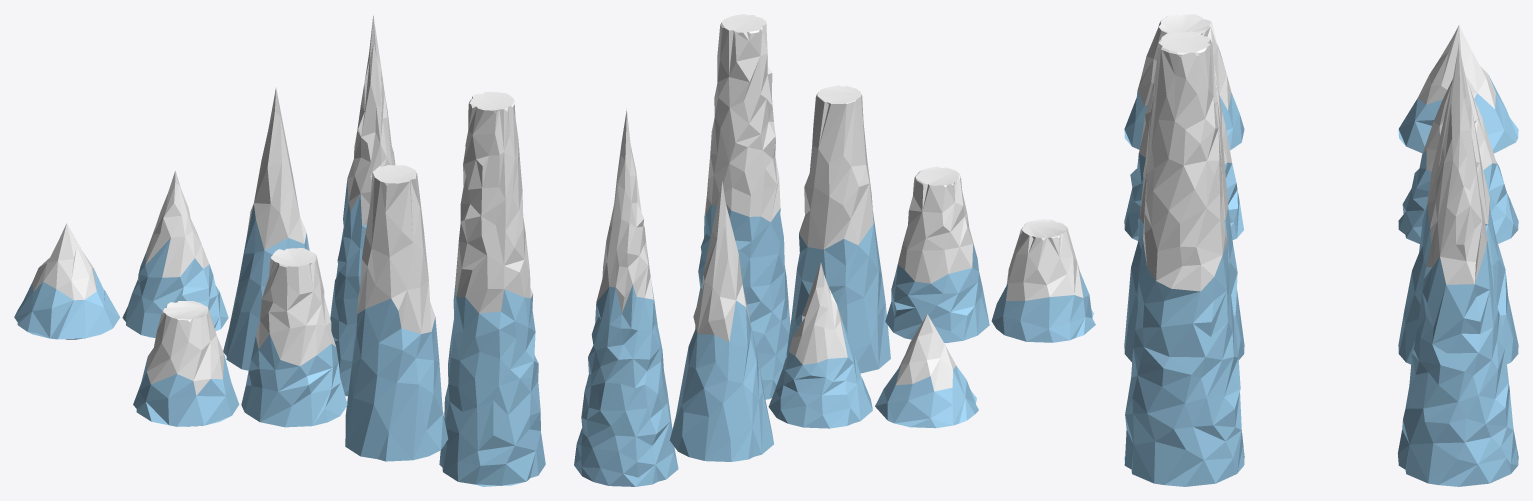
Rendered from Low-Poly Ice World 2.fbx.
3 renders of one model, left to right at view 1: azimuth 30°, elevation 25°; view 2: azimuth 150°, elevation 25°; view 3: azimuth 270°, elevation 25°, orthographic. The views are drawn at different scales.
Parts seen in each view (by area): view 1: Ice_Pillar_Plateau_1, Ice_Pillar_Plateau_2, Ice_Pillar_Plateau_3, Ice_Pillar_Plateau_4, Ice_Pillar_3, Ice_Pillar_4, Ice_Pillar_2, Ice_Pillar_1; view 2: Ice_Pillar_4, Ice_Pillar_Plateau_1, Ice_Pillar_Plateau_2, Ice_Pillar_3, Ice_Pillar_Plateau_3, Ice_Pillar_2, Ice_Pillar_Plateau_4, Ice_Pillar_1; view 3: Ice_Pillar_Plateau_1, Ice_Pillar_4, Ice_Pillar_3, Ice_Pillar_1, Ice_Pillar_2, Ice_Pillar_Plateau_4, Ice_Pillar_Plateau_2, Ice_Pillar_Plateau_3.
Boxes of the visible parts, x1=… form: Ice_Pillar_Plateau_1: x1=439, y1=91, x2=545, y2=486; Ice_Pillar_Plateau_2: x1=345, y1=165, x2=448, y2=461; Ice_Pillar_Plateau_3: x1=241, y1=248, x2=347, y2=427; Ice_Pillar_Plateau_4: x1=133, y1=301, x2=239, y2=426; Ice_Pillar_3: x1=223, y1=87, x2=309, y2=370; Ice_Pillar_4: x1=330, y1=15, x2=395, y2=396; Ice_Pillar_2: x1=122, y1=170, x2=228, y2=338; Ice_Pillar_1: x1=14, y1=223, x2=120, y2=339; Ice_Pillar_4: x1=574, y1=109, x2=678, y2=486; Ice_Pillar_Plateau_1: x1=695, y1=14, x2=790, y2=399; Ice_Pillar_Plateau_2: x1=786, y1=85, x2=890, y2=373; Ice_Pillar_3: x1=669, y1=181, x2=773, y2=461; Ice_Pillar_Plateau_3: x1=885, y1=166, x2=989, y2=343; Ice_Pillar_2: x1=768, y1=262, x2=872, y2=428; Ice_Pillar_Plateau_4: x1=991, y1=218, x2=1095, y2=342; Ice_Pillar_1: x1=875, y1=314, x2=978, y2=428; Ice_Pillar_Plateau_1: x1=1124, y1=31, x2=1244, y2=486; Ice_Pillar_4: x1=1397, y1=43, x2=1518, y2=486; Ice_Pillar_3: x1=1398, y1=52, x2=1518, y2=364; Ice_Pillar_1: x1=1398, y1=25, x2=1518, y2=153; Ice_Pillar_2: x1=1398, y1=72, x2=1518, y2=243; Ice_Pillar_Plateau_4: x1=1124, y1=14, x2=1244, y2=150; Ice_Pillar_Plateau_2: x1=1124, y1=40, x2=1244, y2=362; Ice_Pillar_Plateau_3: x1=1124, y1=66, x2=1243, y2=240.
Size of the model in its own units: 880 by 770 by 656.
